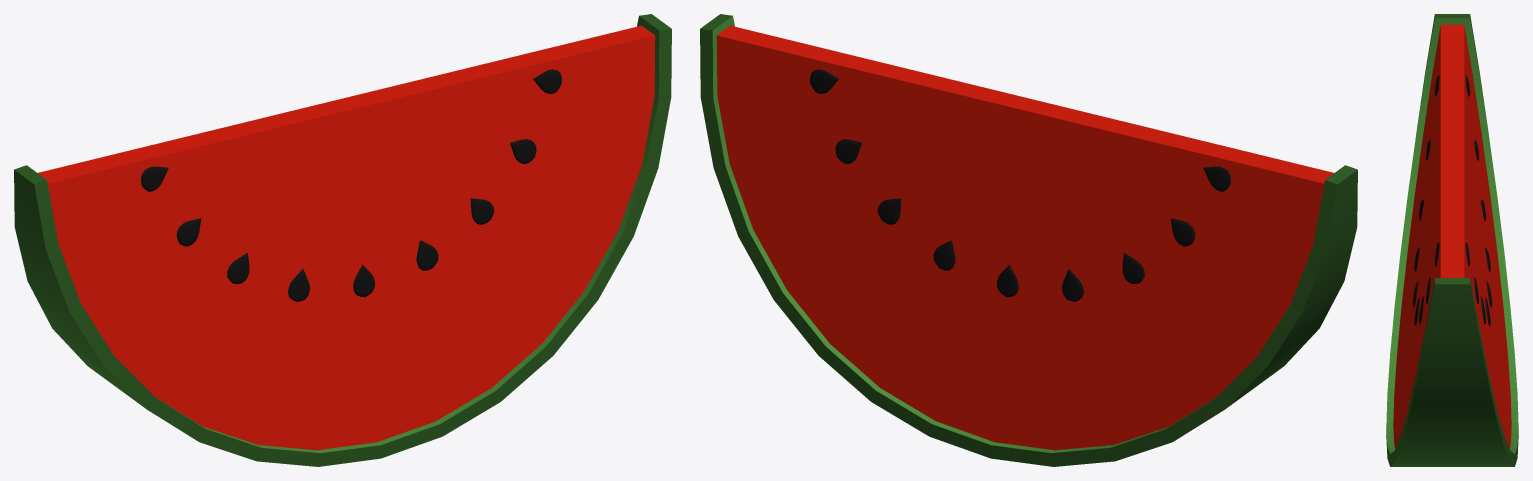
Rendered from Watermelon.fbx.
3 views of the same model, side by side, from view 1: azimuth 30°, elevation 25°; view 2: azimuth 150°, elevation 25°; view 3: azimuth 270°, elevation 25° (orthographic). The views are drawn at different scales.
Parts seen in each view (by area): view 1: Watermelon; view 2: Watermelon; view 3: Watermelon.
Boxes of the visible parts, x1,y1,x2,y2 form: Watermelon: [14, 14, 671, 466]; Watermelon: [700, 14, 1357, 466]; Watermelon: [1386, 14, 1518, 466].
Bounding box in the file's own units: 25 × 12.47 × 5.16.
